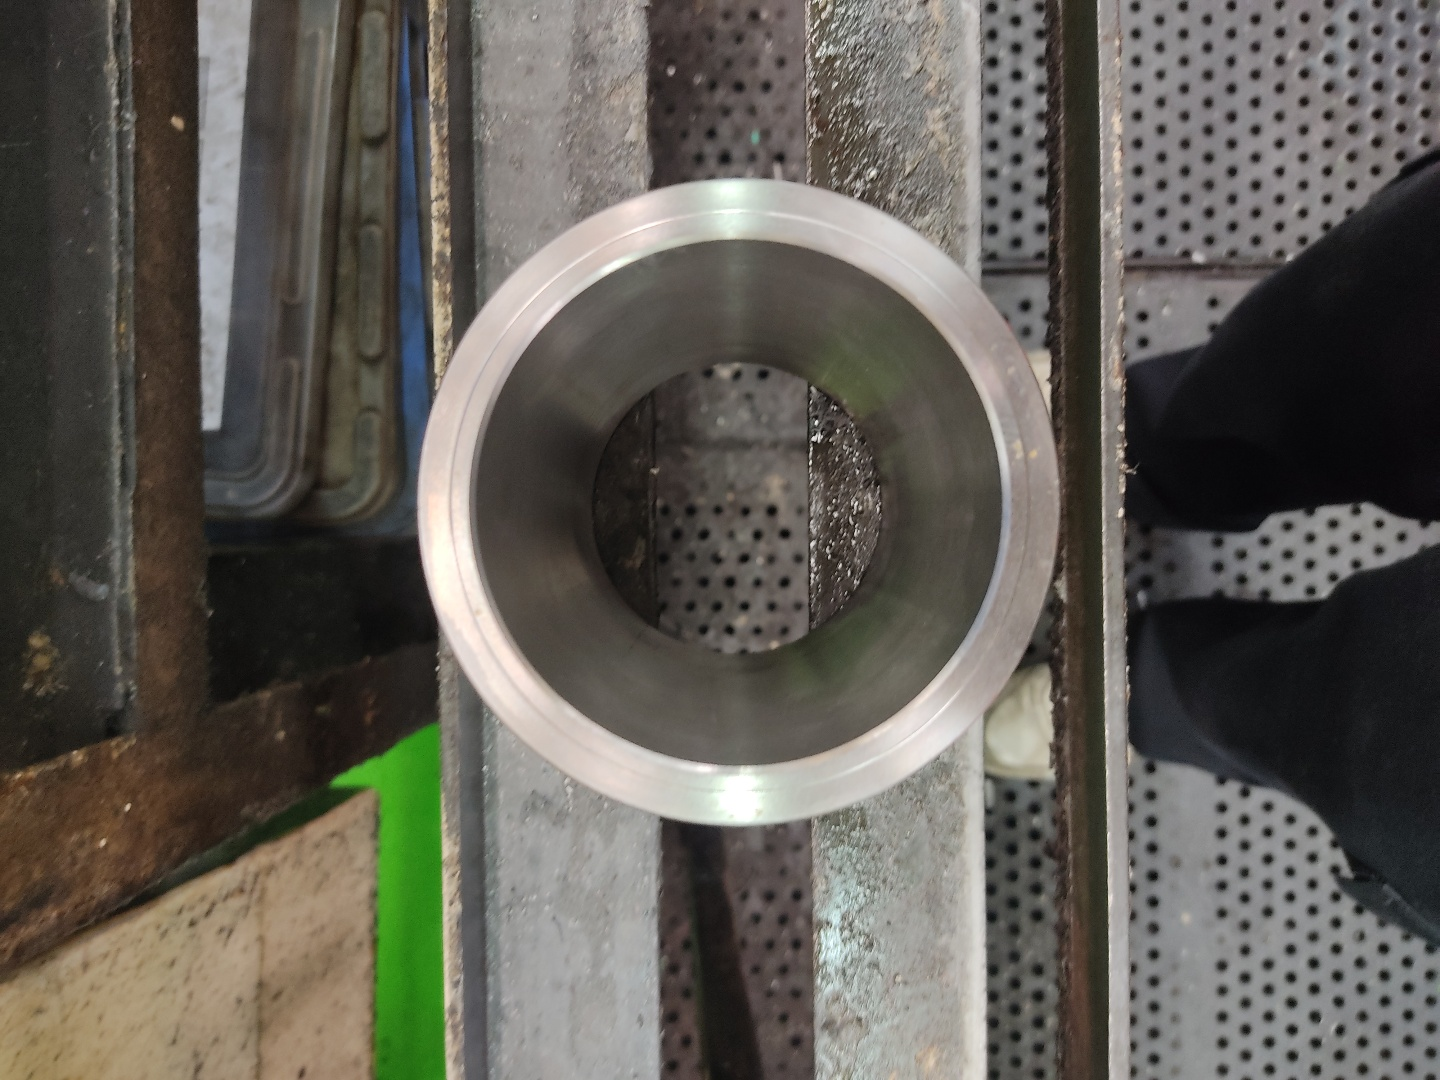cylinder: (412, 172, 1065, 834)
